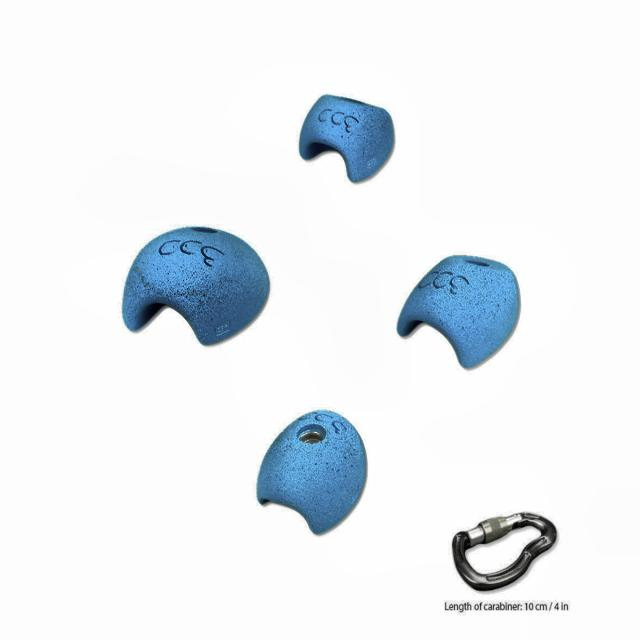Hold: (120, 216, 268, 349), (389, 244, 526, 374), (257, 402, 366, 540), (294, 90, 398, 186)
